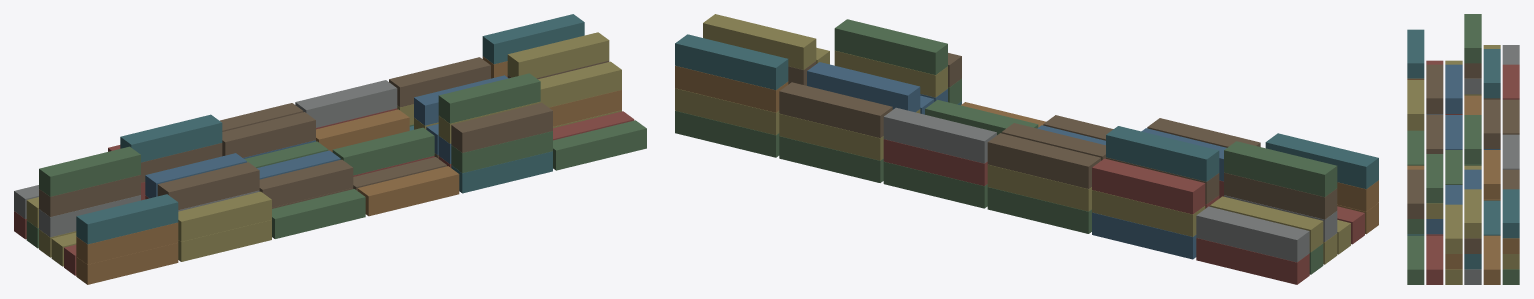
File: container_stack_10.glb
3 renders of one model, left to right at view 1: azimuth 30°, elevation 25°; view 2: azimuth 150°, elevation 25°; view 3: azimuth 270°, elevation 25°, orthographic. The views are drawn at different scales.
Visible parts, largest first — view 1: LOD0; view 2: LOD0; view 3: LOD0.
Part boxes in pixels (bbox=[...]): LOD0: bbox=[14, 14, 646, 284]; LOD0: bbox=[675, 14, 1378, 284]; LOD0: bbox=[1407, 14, 1519, 284].
Size of what is drawn, in the model's own units: 75.2 by 10.38 by 17.1.
